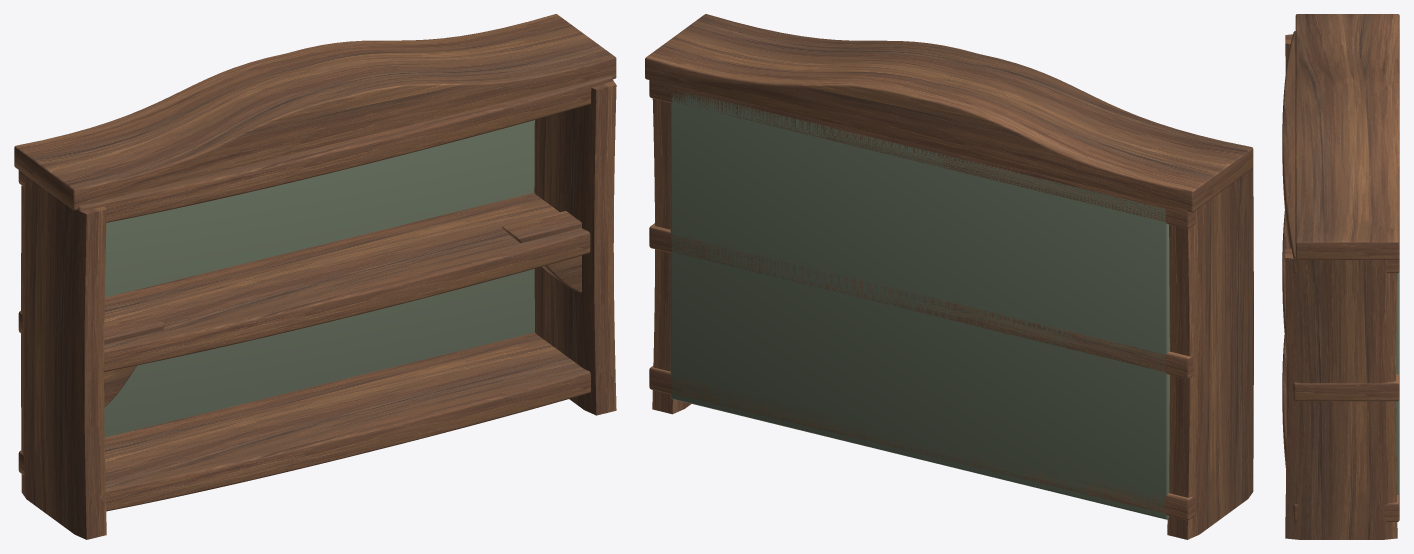
The model's file is CM_SW10_RecordsCabinet.fbx.
The picture shows the model from 3 angles, left to right: view 1: azimuth 30°, elevation 25°; view 2: azimuth 150°, elevation 25°; view 3: azimuth 270°, elevation 25°; orthographic projection. The views are drawn at different scales.
Parts seen in each view (by area): view 1: CM_SW10_RecordsCabinet; view 2: CM_SW10_RecordsCabinet; view 3: CM_SW10_RecordsCabinet.
Part boxes in pixels (x1,y1,x2,y2): CM_SW10_RecordsCabinet: (14, 14, 616, 539); CM_SW10_RecordsCabinet: (645, 14, 1253, 539); CM_SW10_RecordsCabinet: (1282, 14, 1399, 539).
Size of the model in its own units: 1.3 by 0.8558 by 0.282.
